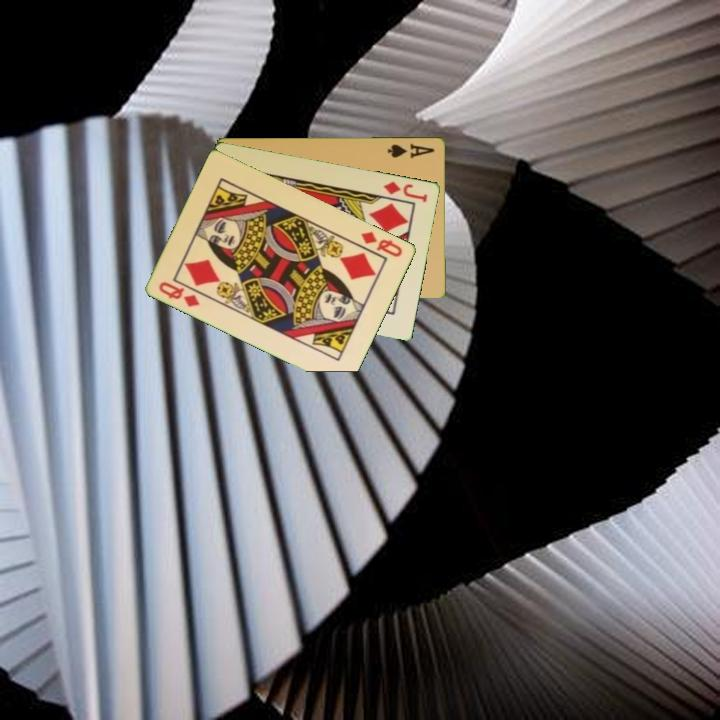As: (385, 140, 437, 161)
Jd: (381, 177, 431, 205)
Qd: (358, 228, 406, 260), (155, 278, 203, 310)
